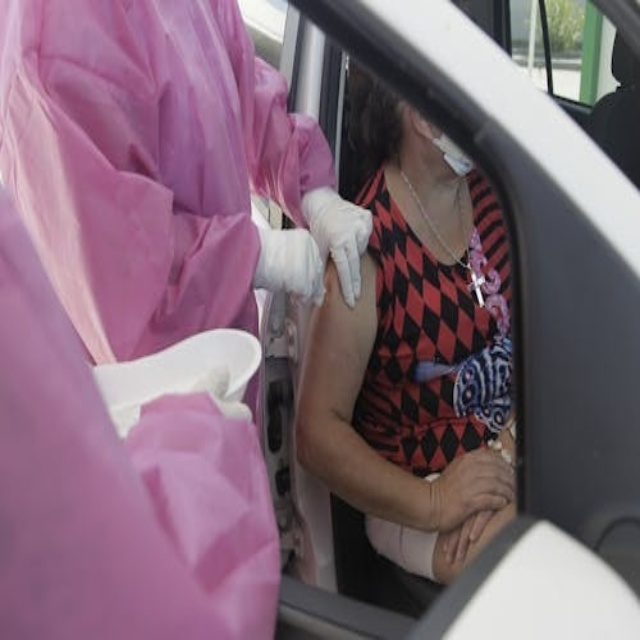Guantes: (243, 206, 330, 319), (301, 185, 374, 309)
Sin_guantes: (425, 432, 516, 561)
